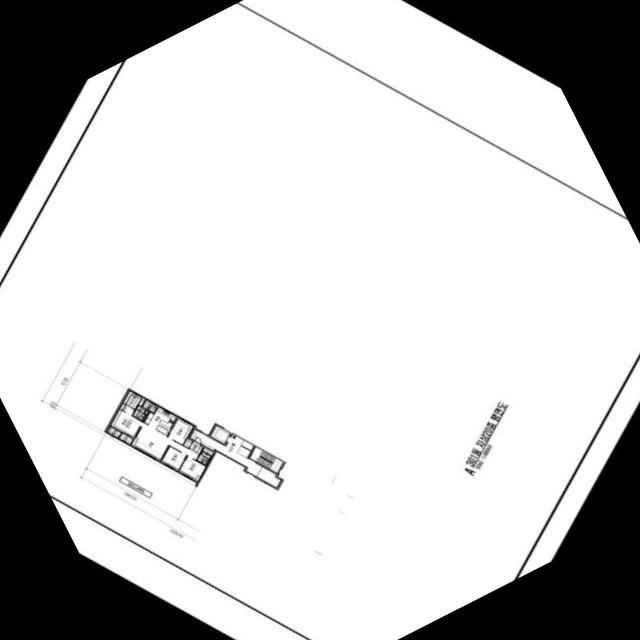background: (0, 0, 640, 640)
space_balconi: (120, 433, 133, 443)
space_bedroom: (112, 403, 142, 437), (168, 418, 193, 444), (180, 456, 206, 480), (162, 446, 186, 470)
space_dressroom: (124, 391, 141, 408)
space_elevator: (211, 425, 231, 443)
space_elevator_hall: (191, 429, 281, 487)
space_front: (184, 438, 203, 454)
space_kitchen: (145, 407, 177, 436)
space_living_room: (132, 422, 199, 459)
space_multipurpose_space: (143, 400, 157, 412)
space_other: (203, 447, 213, 455), (139, 398, 145, 405), (145, 410, 148, 414)
space_outdoor_room: (109, 427, 121, 437)
space_staircase: (250, 446, 283, 472)
space_toilet: (133, 405, 146, 420), (198, 451, 211, 465)
